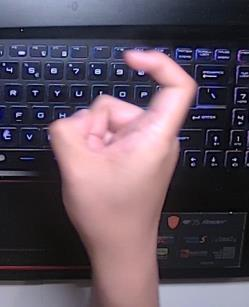anticlockwise: (44, 46, 200, 245)
